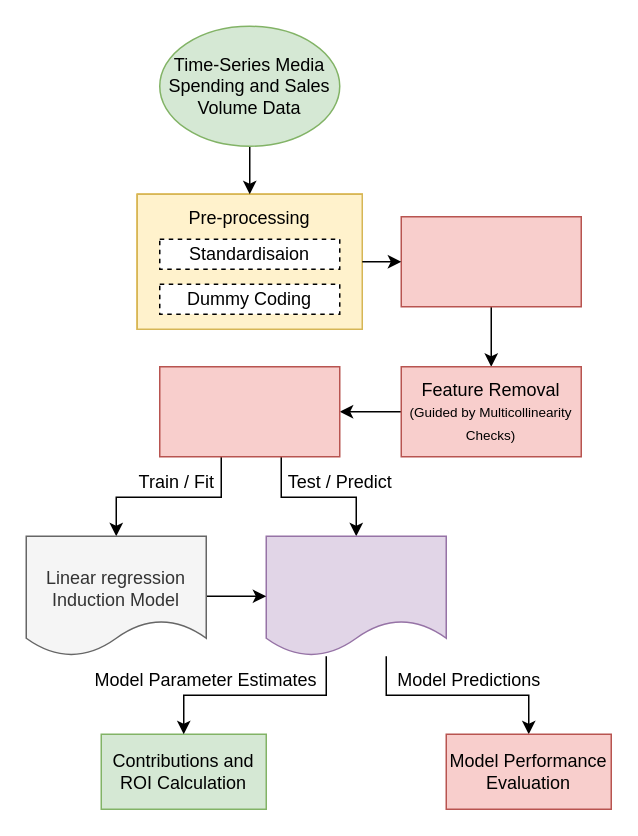
This 638x836 diagram has some shape labels left out. Here are the shapes that lost their labels. From the top down, the centre of each, then its label:
At point (490, 261): "Feature Selection (Using Random Forest Regression)".
At point (249, 411): "Train-Test Split and Cross-Validation Checks".
At point (355, 595): "Predictive Model".
